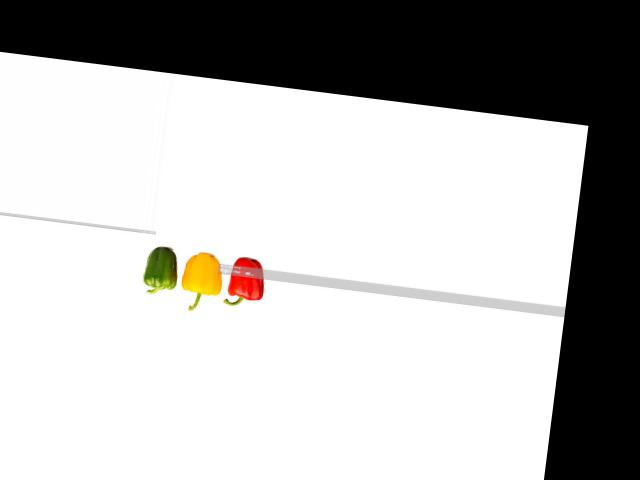bell_pepper: (136, 241, 179, 303)
